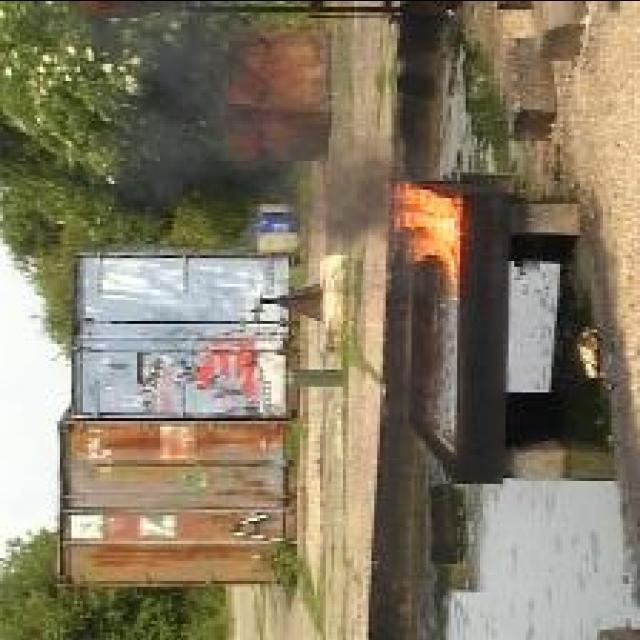Fire: (386, 182, 460, 296)
